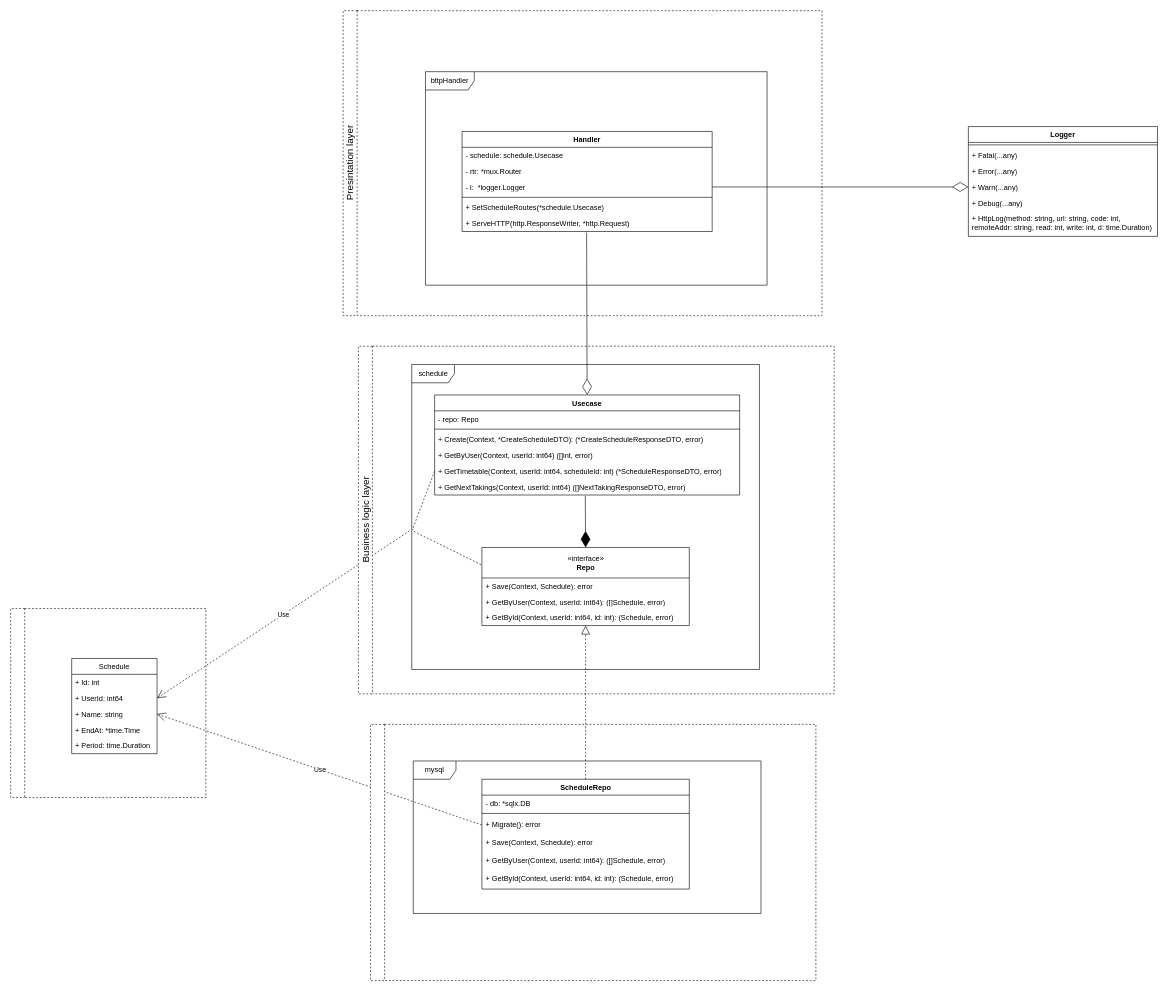
This 1168x991 diagram has some shape labels left out. The shapes that lost their labels are listed below. From the top down, each one's centre as x and y in pixels, then its label:
(x=108, y=703): Entity layer
(x=593, y=852): Data layer
